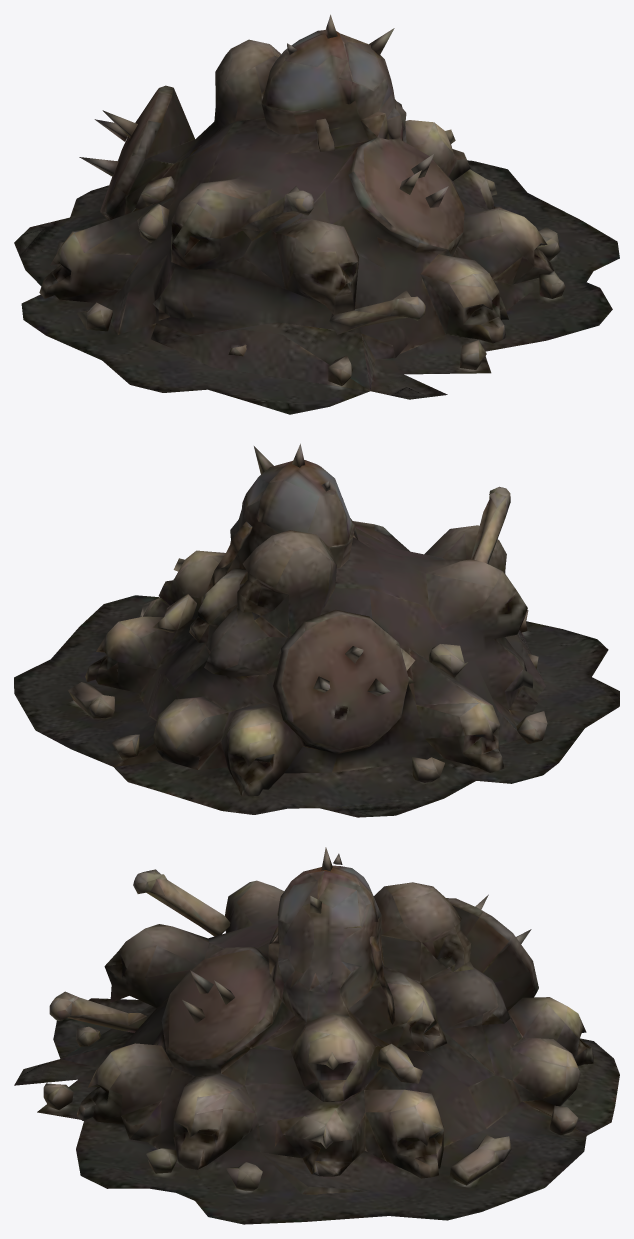
The model's file is orkadia_skull_pile.glb.
3 views of the same model, one above another, from view 1: azimuth 30°, elevation 25°; view 2: azimuth 150°, elevation 25°; view 3: azimuth 270°, elevation 25° (orthographic). The views are drawn at different scales.
Parts seen in each view (by area): view 1: tripo_node_43343813-5138-41eb-9679-6d32cef6e86f; view 2: tripo_node_43343813-5138-41eb-9679-6d32cef6e86f; view 3: tripo_node_43343813-5138-41eb-9679-6d32cef6e86f.
Boxes of the visible parts, box(x1,y1,x2,y2) form: tripo_node_43343813-5138-41eb-9679-6d32cef6e86f: box(14, 14, 619, 414); tripo_node_43343813-5138-41eb-9679-6d32cef6e86f: box(14, 443, 619, 817); tripo_node_43343813-5138-41eb-9679-6d32cef6e86f: box(14, 847, 619, 1224).
Size of the model in its own units: 2.12 by 1 by 2.11.
Materials: 1 (1 with a texture image).
